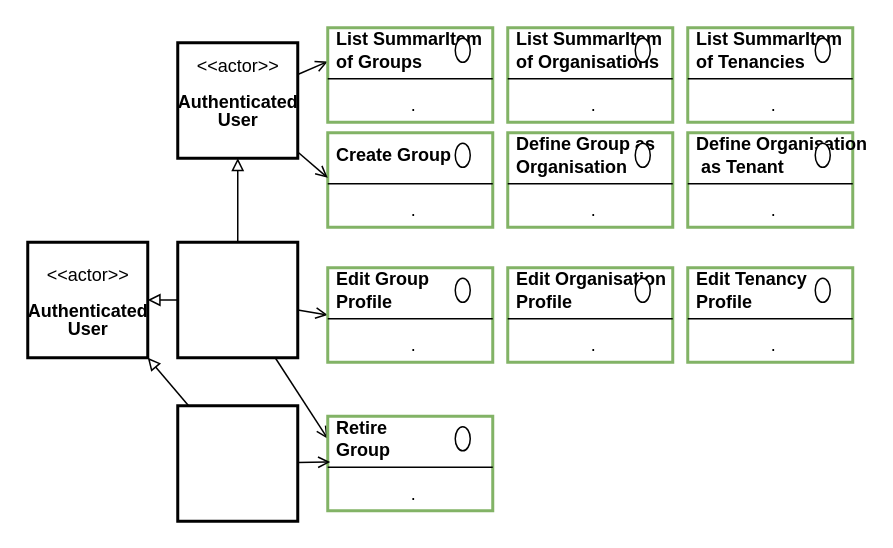
Image size: 893x548. Some labels were removed from this diagram. The shapes that lost their labels are listed below. From the top down, each one's centre as x and y in pixels, then its label:
At (237,299): "<<actor>> Authenticated User (Group Accountable)".
At (237,463): "<<actor>> Daemon".
